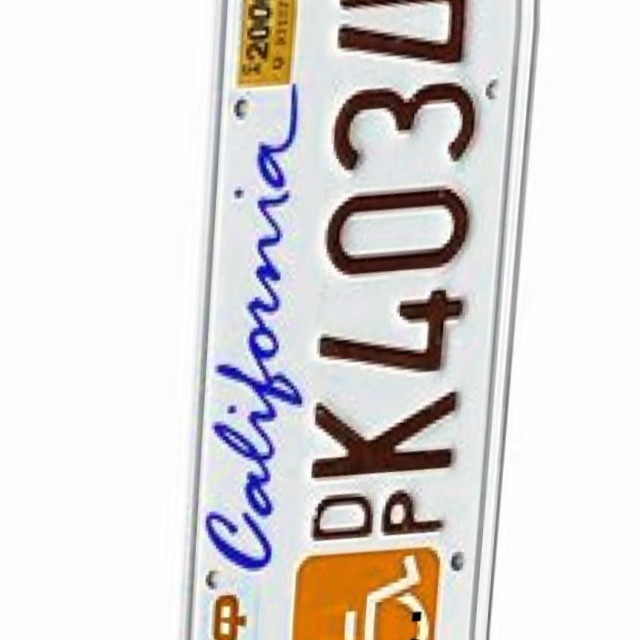ISA: (296, 546, 438, 631), (292, 624, 434, 640)
